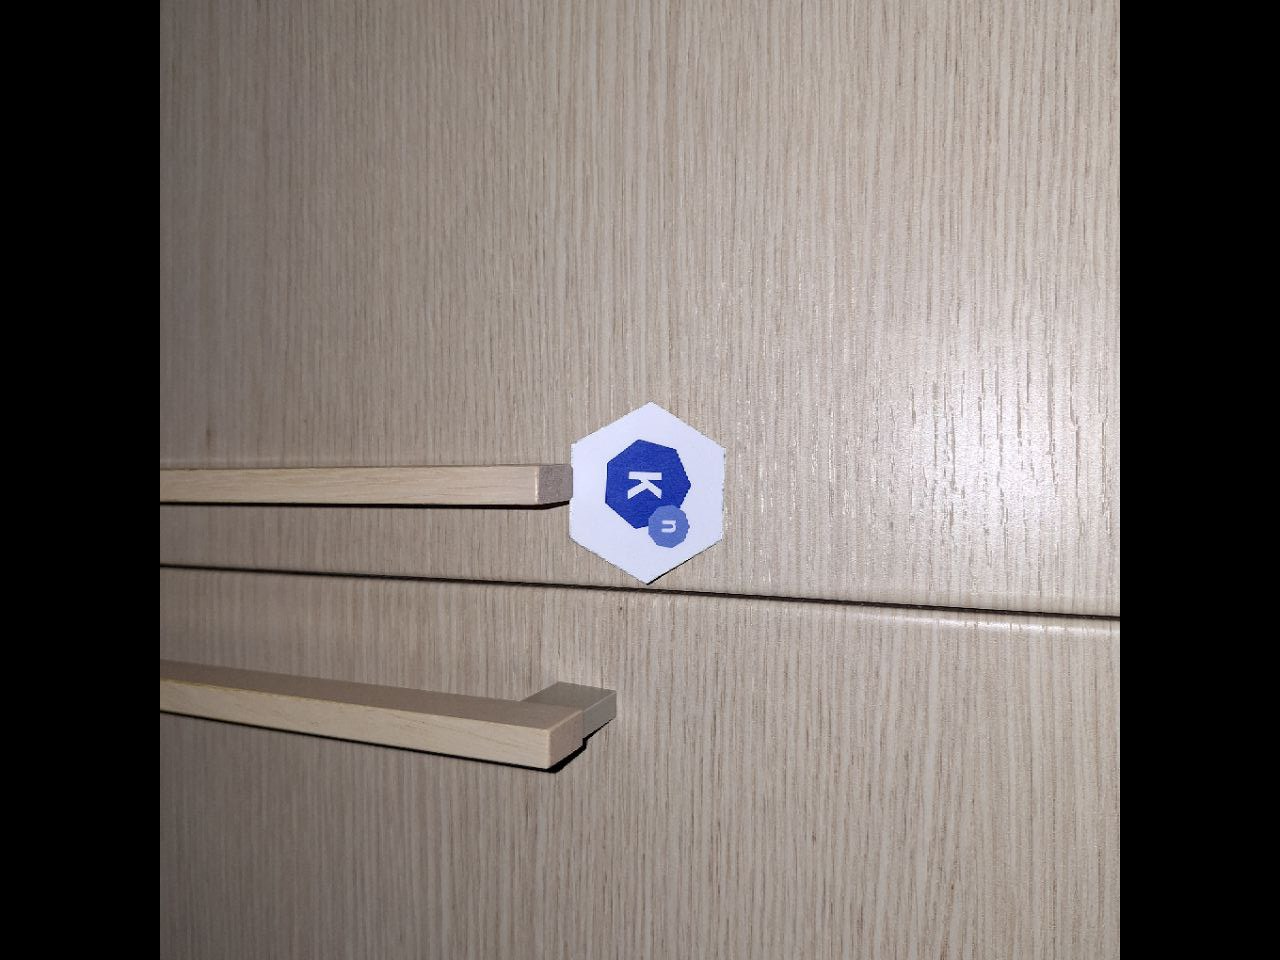knative: (605, 434, 693, 552)
